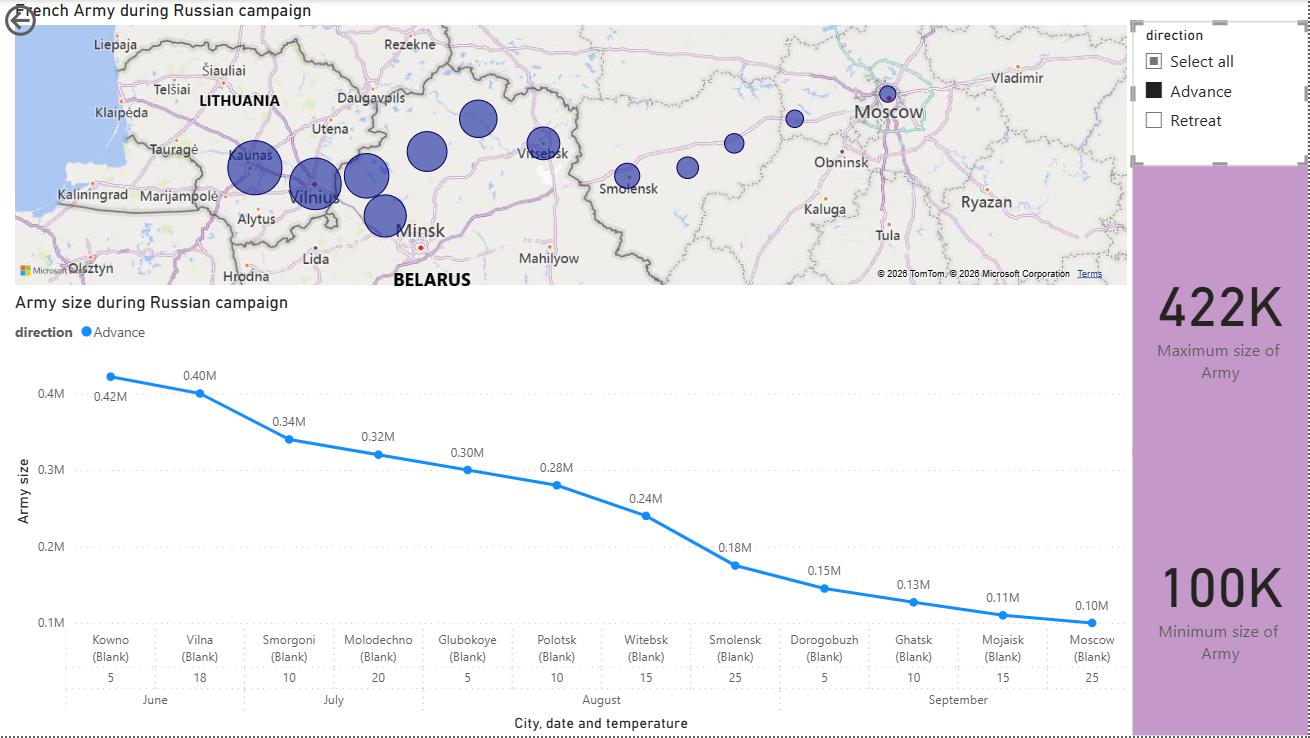

This screenshot's page, from the dashboard's own definition file:
{"tool":"powerbi","page":{"name":"Page 1","canvas":[1280,720],"ordinal":0},"visuals":[{"type":"map","title":"French Army during Russian campaign ","fields":{"Y":["french marsh to russia.lat"],"X":["french marsh to russia.lon"],"Size":["Sum(french marsh to russia.army_size)"]},"box":[9.4,0,1098.3,284.4],"z":0},{"type":"slicer","fields":{"Values":["french marsh to russia.direction"]},"box":[1107.8,20.2,172.5,142.9],"z":2},{"type":"actionButton","box":[0,0,100,40],"z":5},{"type":"lineChart","title":"Army size during Russian campaign  ","fields":{"Y":["Sum(french marsh to russia.army_size)"],"Series":["french marsh to russia.direction"],"Category":["french marsh to russia.Data.Variation.Date Hierarchy.Month","french marsh to russia.Data.Variation.Date Hierarchy.Day","french marsh to russia.temperature_c","french marsh to russia.city"]},"box":[9.4,284.4,1098.3,435.3],"z":6},{"type":"card","fields":{"Values":["Max(french marsh to russia.army_size)"]},"box":[1107.8,163.1,172.5,281.7],"z":7},{"type":"card","fields":{"Values":["Min(french marsh to russia.army_size)"]},"box":[1107.8,438,172.5,281.7],"z":8}]}

Visuals, with their boxes in screenshot pixels (x1, y1, x2, y2), scaled from the page's 1280x720 canvas onto the 1310x738 screenshot:
"French Army during Russian campaign " map: locate(10, 0, 1134, 292)
slicer - french marsh to russia.direction: locate(1134, 21, 1309, 167)
actionButton: locate(0, 0, 102, 41)
"Army size during Russian campaign  " lineChart: locate(10, 292, 1134, 737)
card - Max(french marsh to russia.army_size): locate(1134, 167, 1309, 456)
card - Min(french marsh to russia.army_size): locate(1134, 449, 1309, 737)
